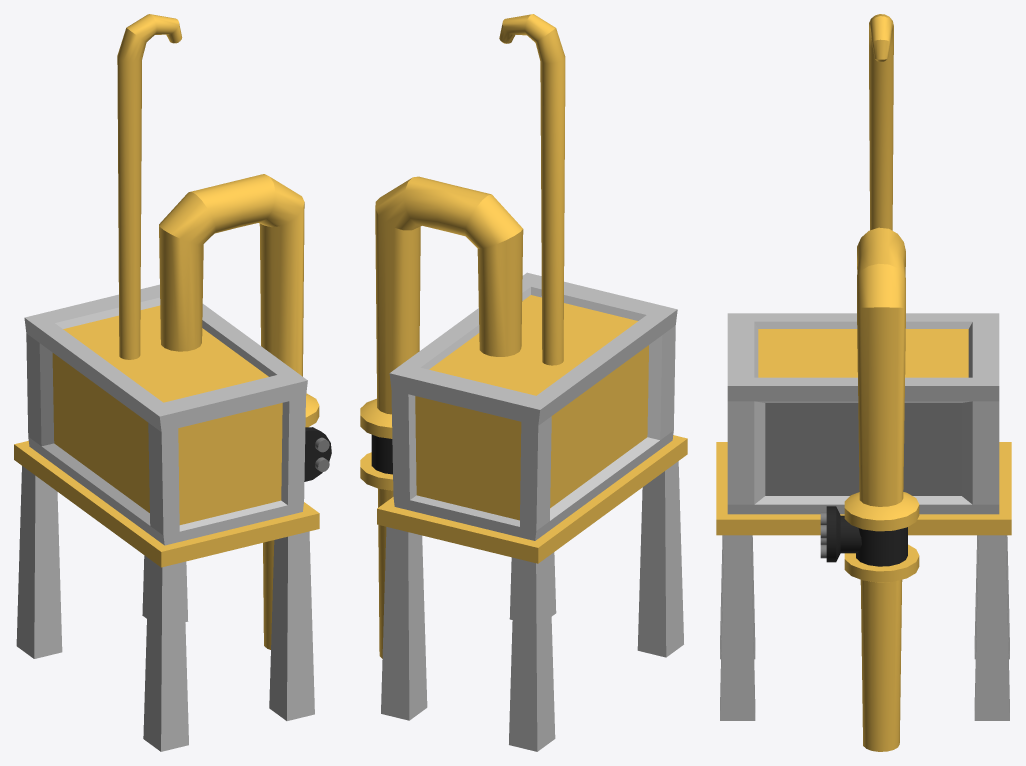
Rendered from Electric thing.fbx.
3 views of the same model, side by side, from view 1: azimuth 30°, elevation 25°; view 2: azimuth 150°, elevation 25°; view 3: azimuth 270°, elevation 25° (orthographic).
Parts seen in each view (by area): view 1: Electric thing; view 2: Electric thing; view 3: Electric thing.
Part boxes in pixels (<box>): Electric thing: <box>14,14,331,751</box>; Electric thing: <box>360,14,687,751</box>; Electric thing: <box>716,14,1011,751</box>.
Bounding box in the file's own units: 192 × 515 × 208.
